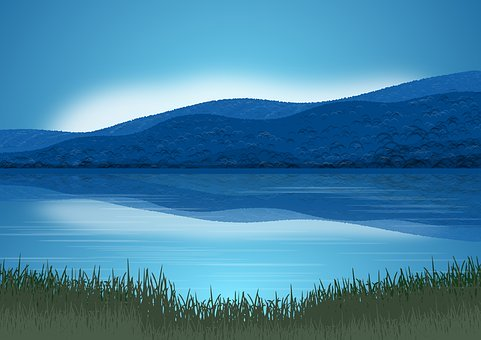lake: (4, 168, 478, 323)
mountain: (8, 81, 476, 163)
sky: (4, 5, 466, 94)
